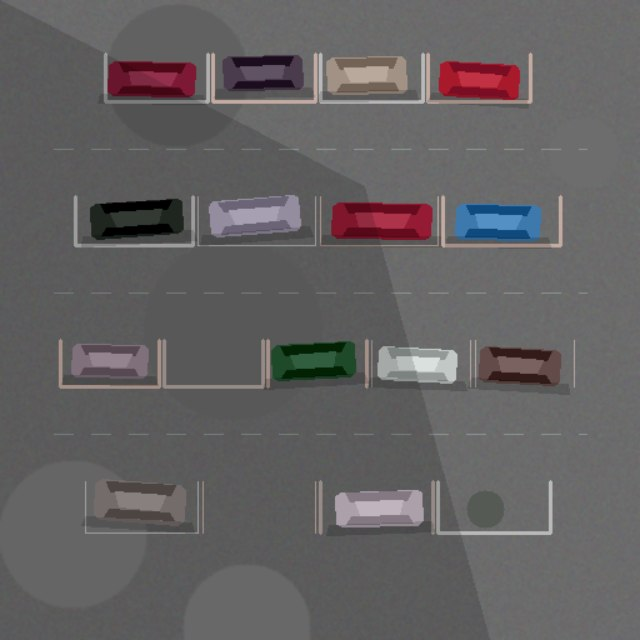space-empty: (437, 481, 550, 532), (203, 481, 315, 532), (164, 340, 263, 386)
space-occupied: (320, 196, 438, 245), (442, 196, 560, 245), (320, 481, 433, 532), (75, 196, 192, 245), (198, 196, 315, 245), (85, 481, 197, 532), (105, 54, 208, 101), (212, 54, 315, 101), (320, 54, 422, 101), (428, 54, 530, 101), (60, 340, 159, 386), (267, 340, 366, 386), (371, 340, 470, 386), (475, 340, 574, 386)
